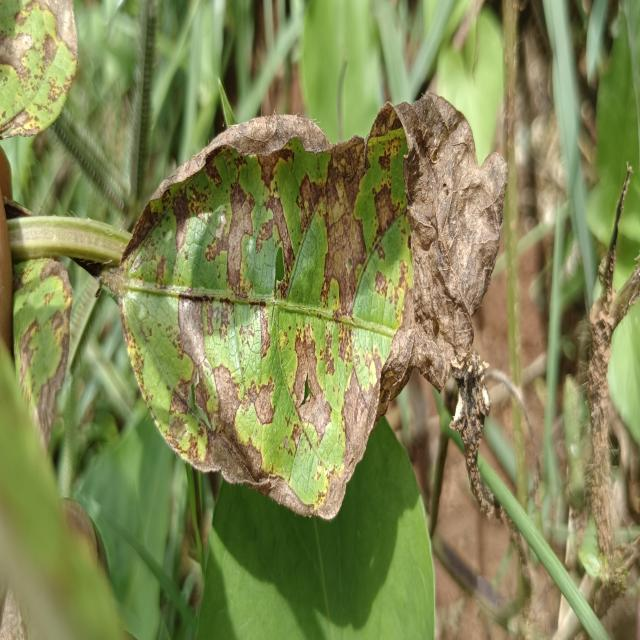Black gram_leaf spot: (111, 82, 510, 526), (11, 262, 72, 455), (0, 0, 79, 149)
